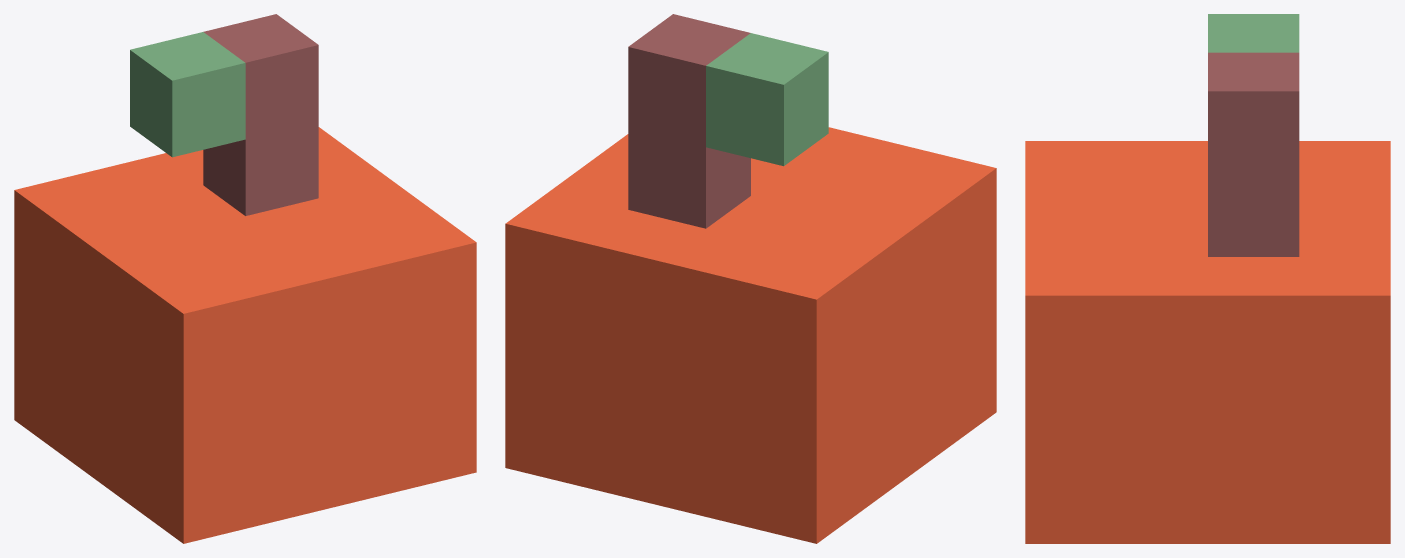
Rendered from clown4.obj.
The picture shows the model from 3 angles, left to right: view 1: azimuth 30°, elevation 25°; view 2: azimuth 150°, elevation 25°; view 3: azimuth 270°, elevation 25°; orthographic projection. The views are drawn at different scales.
Bounding box in the file's own units: 0.4 × 0.5 × 0.4.
1 material, 1 textured.
